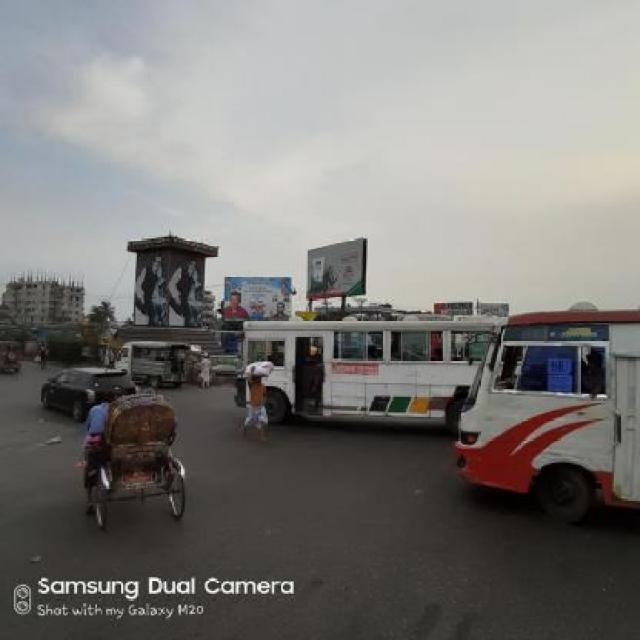vehicle: (452, 299, 640, 533), (238, 318, 496, 422), (42, 366, 142, 414), (116, 336, 192, 386)
